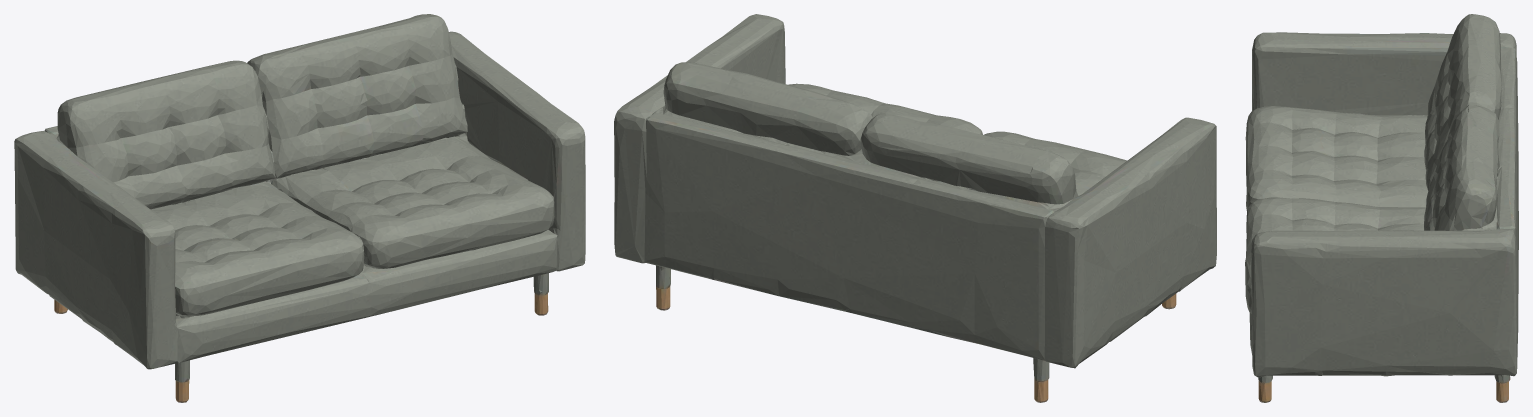
3 views of the same model, side by side, from view 1: azimuth 30°, elevation 25°; view 2: azimuth 150°, elevation 25°; view 3: azimuth 270°, elevation 25° (orthographic). The views are drawn at different scales.
Visible parts, largest first — view 1: ProcessedGeometry; view 2: ProcessedGeometry; view 3: ProcessedGeometry.
Boxes of the visible parts, box(x1,y1,x2,y2) form: ProcessedGeometry: box(14, 14, 585, 402); ProcessedGeometry: box(614, 14, 1216, 402); ProcessedGeometry: box(1245, 14, 1518, 402).
Size of the model in its own units: 1.64 by 0.78 by 0.89.
Materials: 1 (1 with a texture image).
